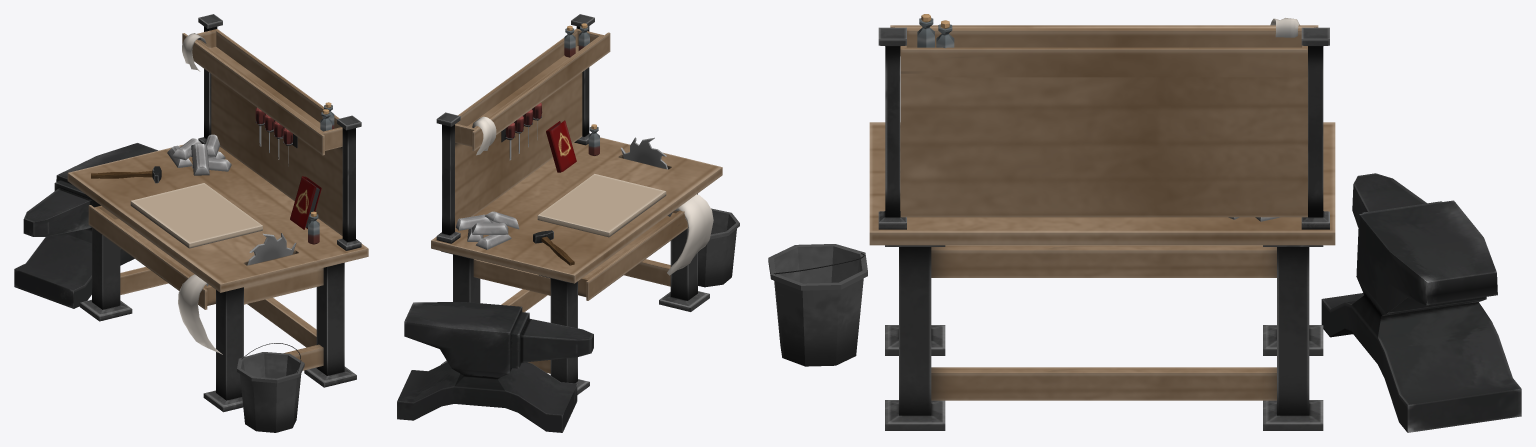
File: SM_craftingTable.fbx
3 views of the same model, side by side, from view 1: azimuth 30°, elevation 25°; view 2: azimuth 150°, elevation 25°; view 3: azimuth 270°, elevation 25° (orthographic). The views are drawn at different scales.
Visible parts, largest first — view 1: SM_craftingTable; view 2: SM_craftingTable; view 3: SM_craftingTable.
Part boxes in pixels (box(x1,y1,x2,y2)): SM_craftingTable: box(14, 14, 368, 432); SM_craftingTable: box(397, 14, 739, 432); SM_craftingTable: box(768, 14, 1521, 432).
Size of the model in its own units: 2.56 by 3.62 by 6.12.
